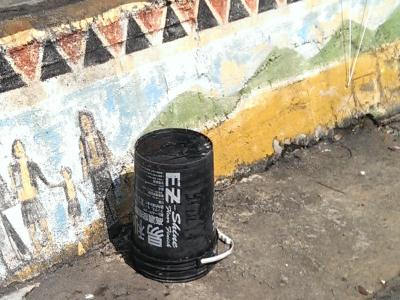bucket: (129, 126, 220, 281)
